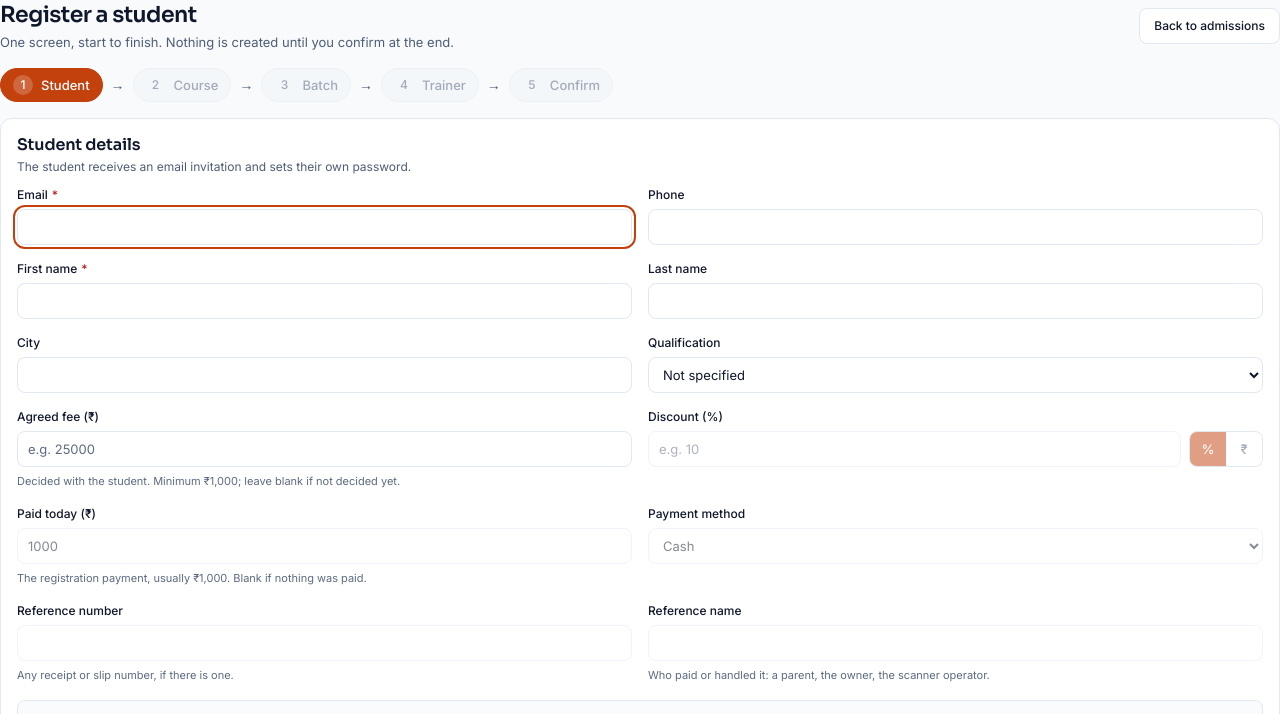
RegistrationWizard — moving through the steps › skips the trainer step when the chosen batch already has one
The width and height of the screenshot is (1280, 714).
Type "jane@example.com" into the field labelled "Email" at x=324, y=227, box [17,209,632,245]
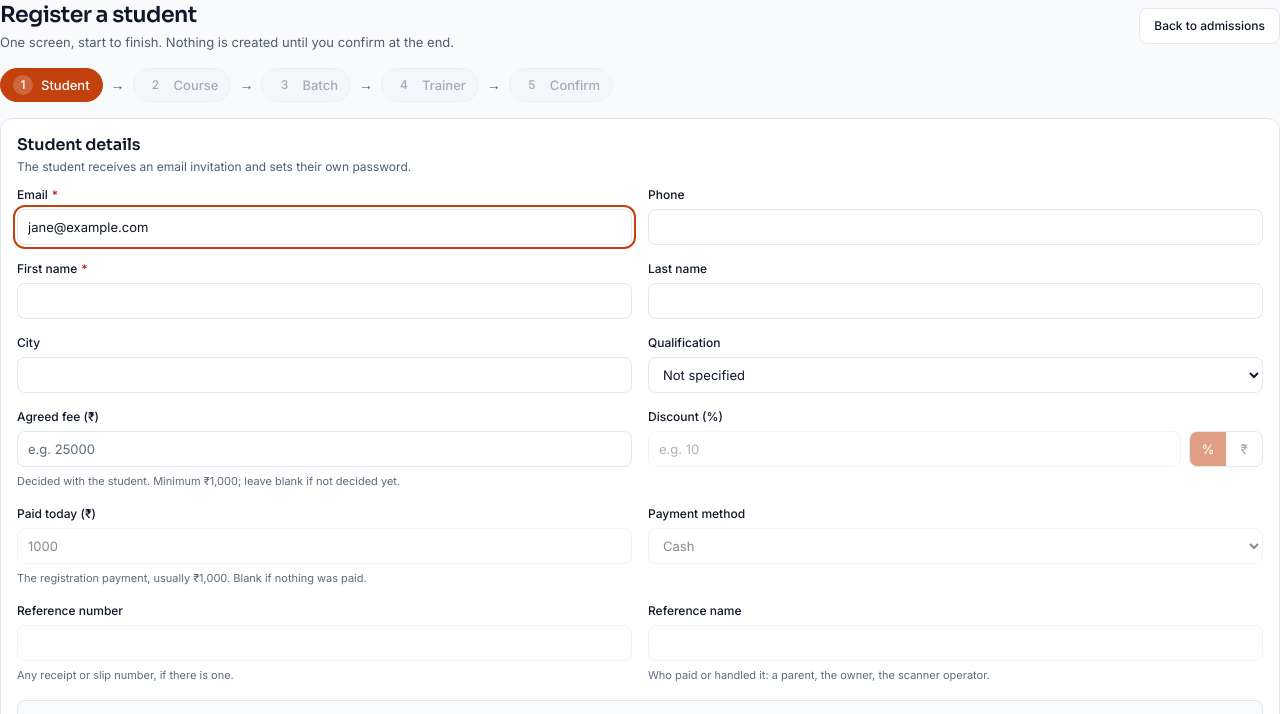
Type "Jane" into the field labelled "First name" at x=324, y=301, box [17,283,632,319]
(page scrolled)
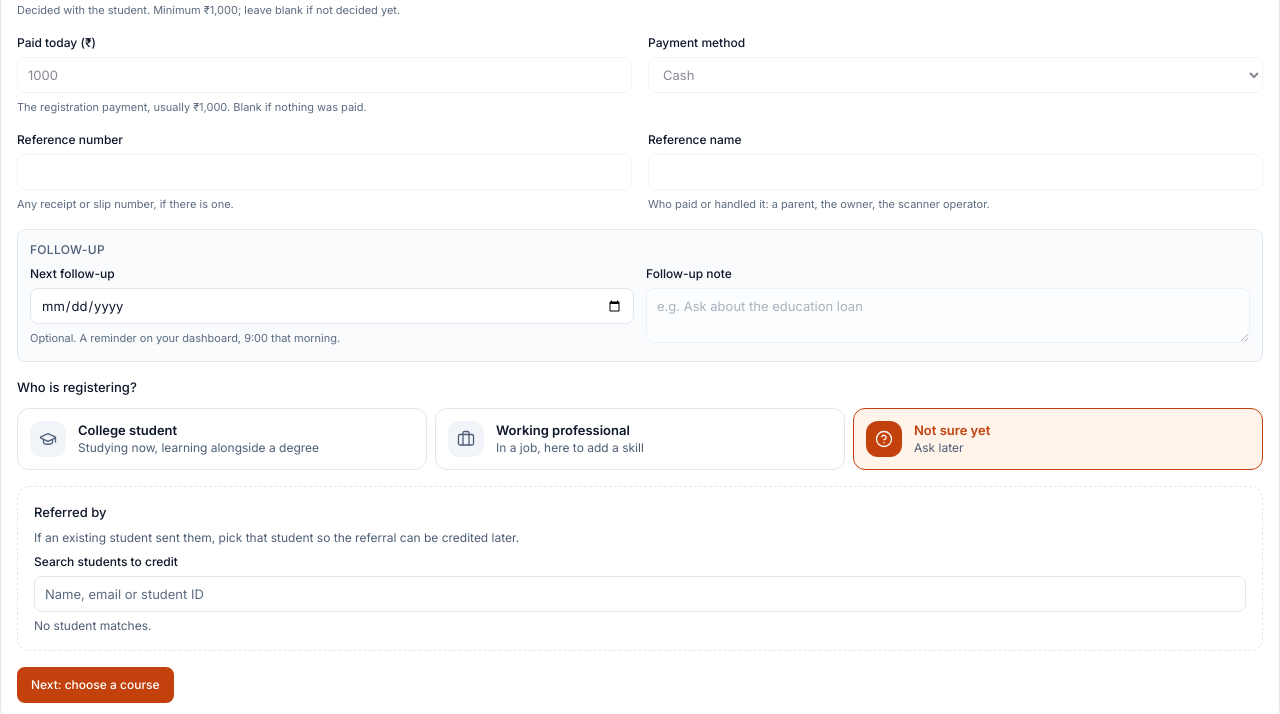
Click the button "Next: choose a course" at x=95, y=685, box [17,667,174,703]
(page scrolled)
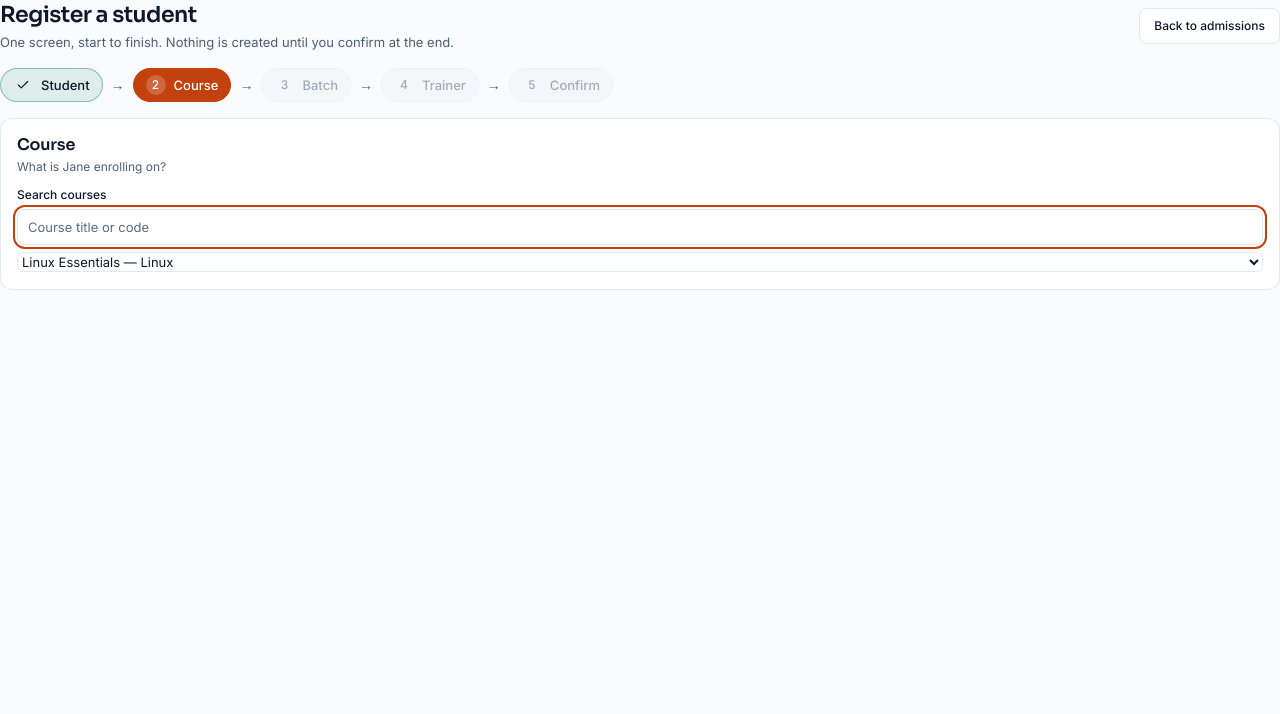
Select "Linux Essentials — Linux" in the dropdown named "Search courses results" at x=640, y=262, box [17,252,1263,272]
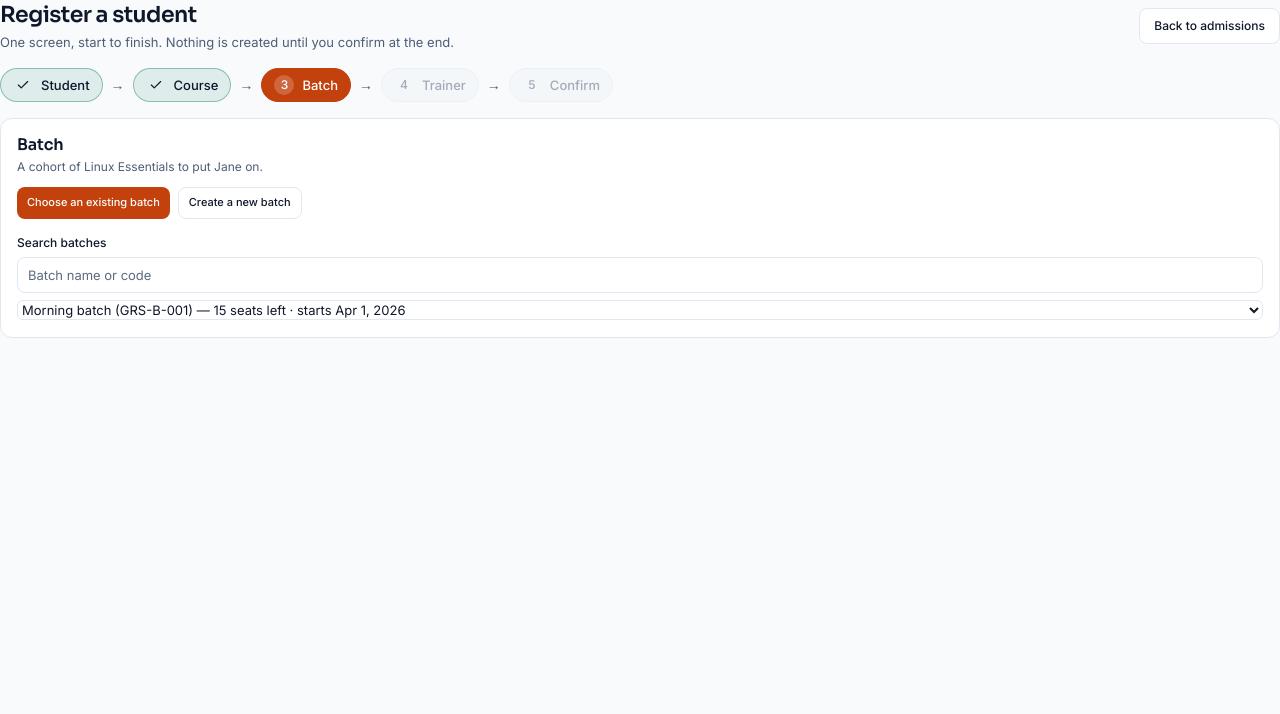
Expected: the dropdown labelled "Search batches" is shown, [17,257,1263,293]
Select "Morning batch (GRS-B-001) — 15 seats left · starts Apr 1, 2026" in the dropdown named "Search batches results" at x=640, y=310, box [17,300,1263,320]
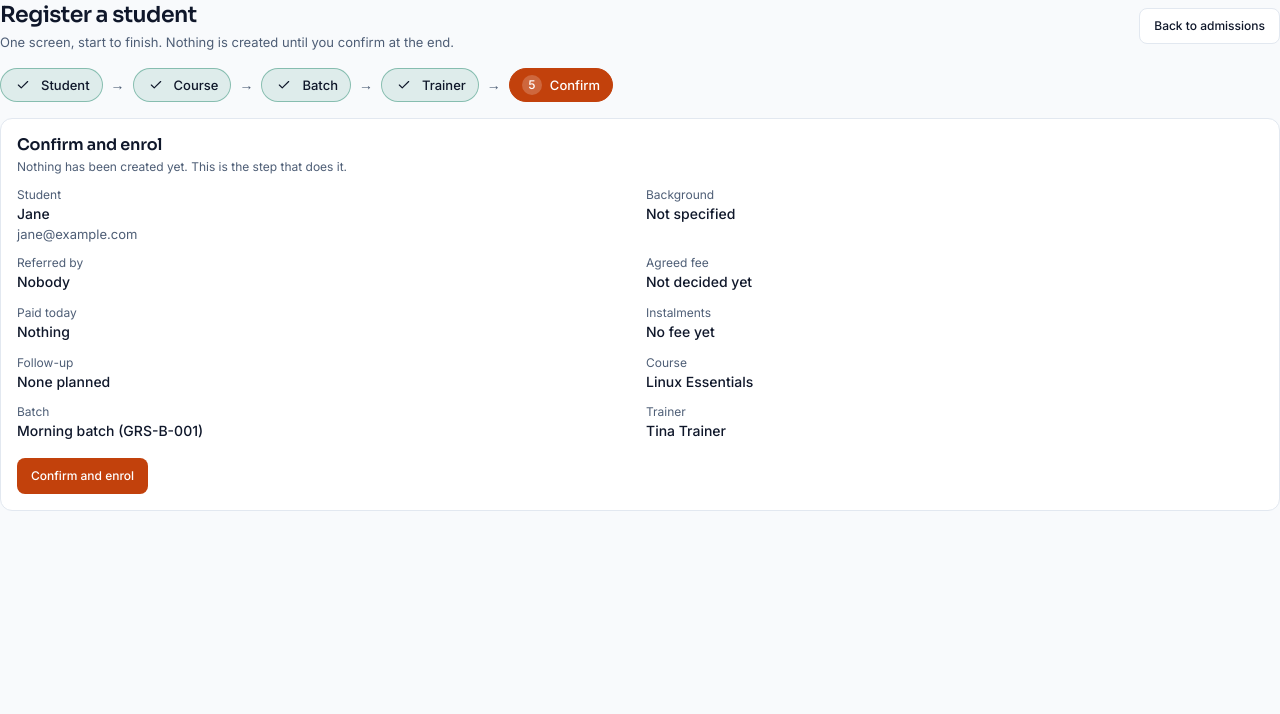
Now the heading "Confirm and enrol" is shown, box [17,134,162,155]
Now the text "Tina Trainer" is shown, box [646,422,726,439]
